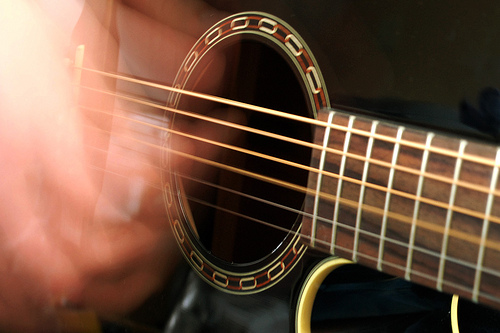guitar: (30, 2, 500, 332)
